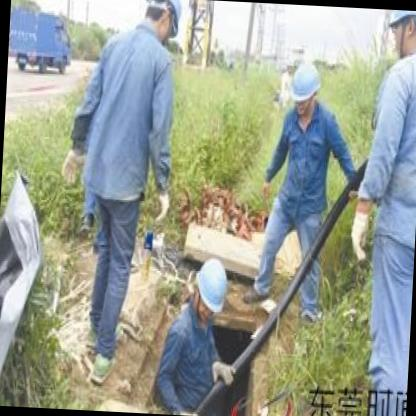helmet: (192, 253, 232, 325), (287, 55, 324, 120), (138, 1, 186, 49), (381, 10, 416, 64)
